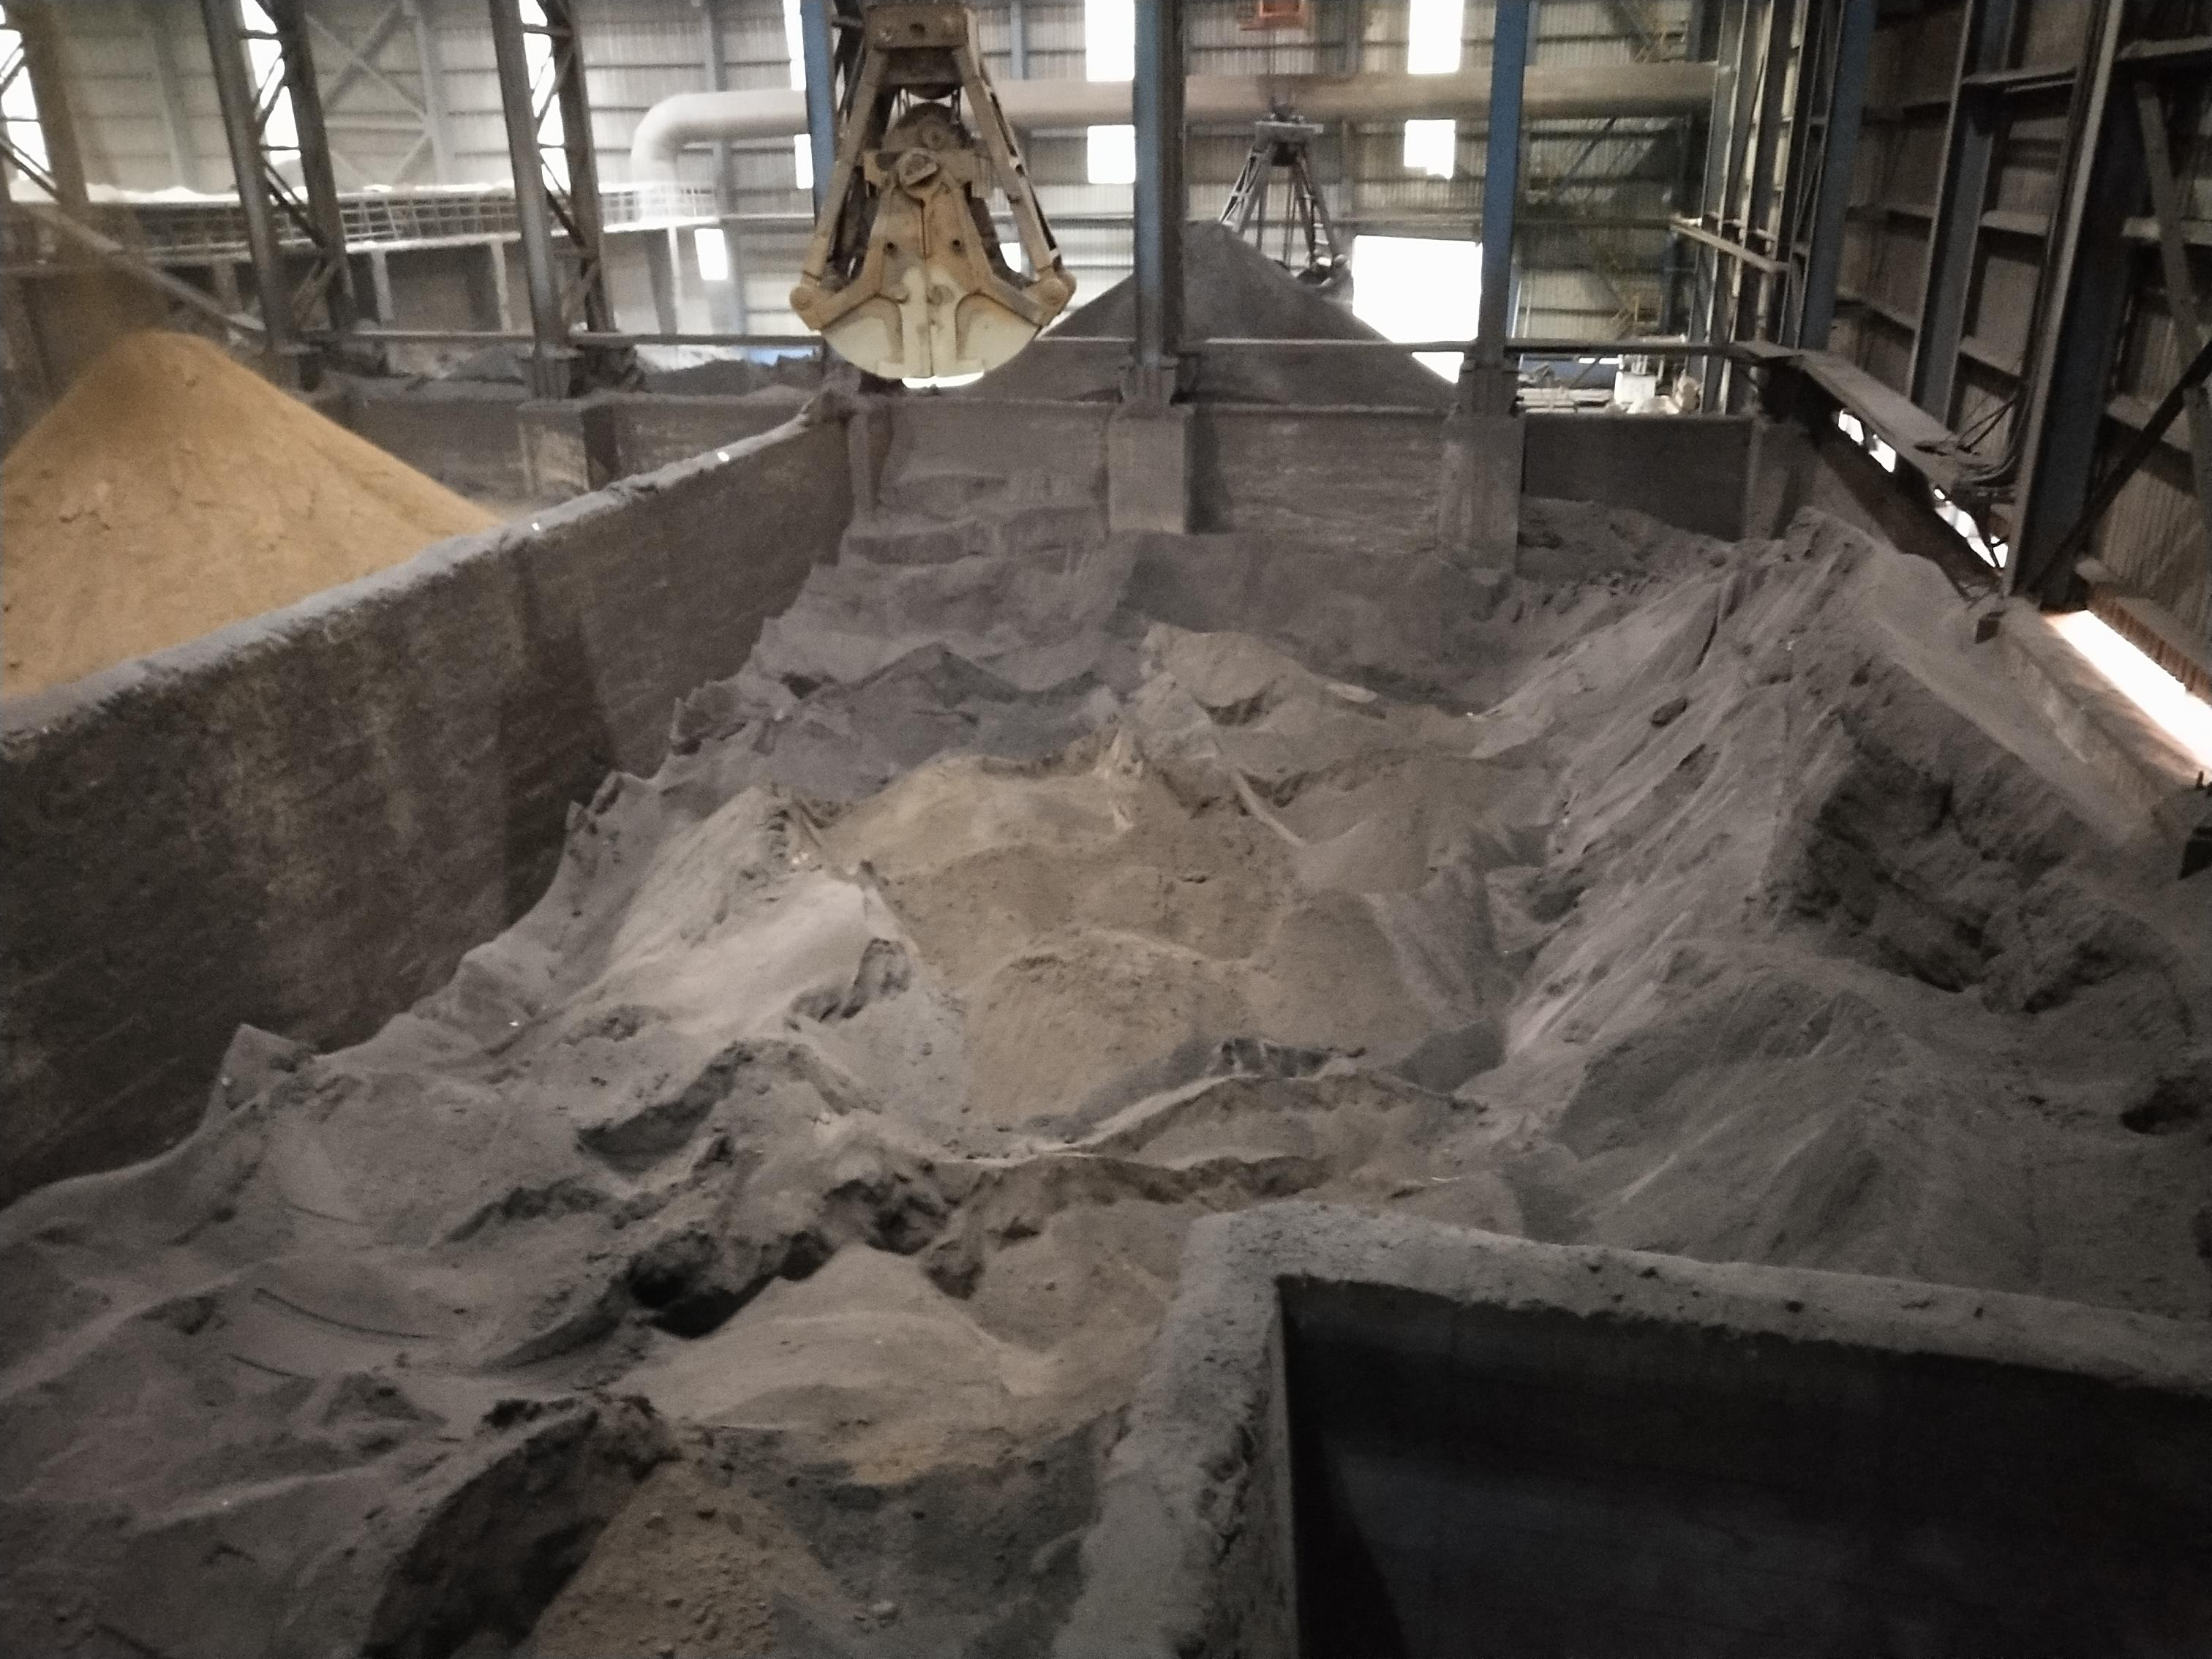grab: (782, 0, 1090, 397)
